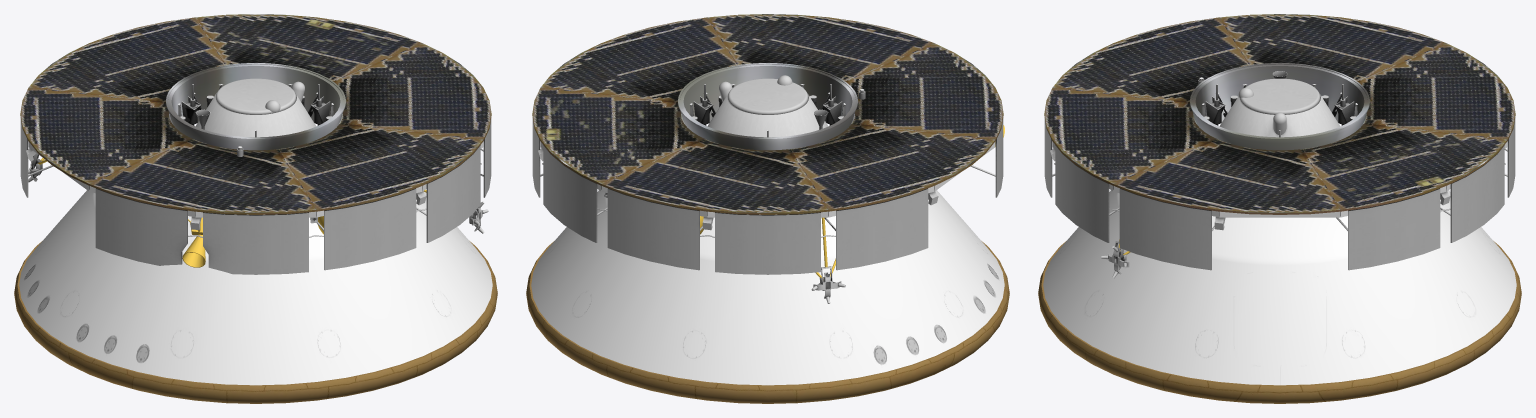
Rendered from msl_cruise_stage.gltf.
3 renders of one model, left to right at view 1: azimuth 30°, elevation 25°; view 2: azimuth 150°, elevation 25°; view 3: azimuth 270°, elevation 25°, orthographic.
Visible parts, largest first — view 1: solar_panels., back_shell, frame_etc, heat_shield, cone, chute_cap; view 2: solar_panels., back_shell, frame_etc, heat_shield, cone, chute_cap; view 3: solar_panels., back_shell, frame_etc, heat_shield, cone, chute_cap.
Part boxes in pixels (bbox=[...]): solar_panels.: bbox=[20, 14, 491, 214]; back_shell: bbox=[19, 190, 492, 385]; frame_etc: bbox=[20, 63, 491, 274]; heat_shield: bbox=[14, 241, 497, 403]; cone: bbox=[195, 81, 316, 137]; chute_cap: bbox=[215, 78, 296, 114]; solar_panels.: bbox=[532, 14, 1003, 214]; back_shell: bbox=[531, 190, 1004, 385]; frame_etc: bbox=[532, 63, 1004, 303]; heat_shield: bbox=[526, 241, 1009, 403]; cone: bbox=[707, 81, 828, 137]; chute_cap: bbox=[727, 75, 808, 114]; solar_panels.: bbox=[1044, 14, 1515, 214]; back_shell: bbox=[1043, 190, 1516, 385]; frame_etc: bbox=[1044, 63, 1515, 278]; heat_shield: bbox=[1038, 241, 1521, 403]; cone: bbox=[1219, 94, 1340, 137]; chute_cap: bbox=[1238, 78, 1320, 114].
Bounding box in the file's own units: 4.5 × 2.95 × 4.5.
Materials: 11 (8 with a texture image).
